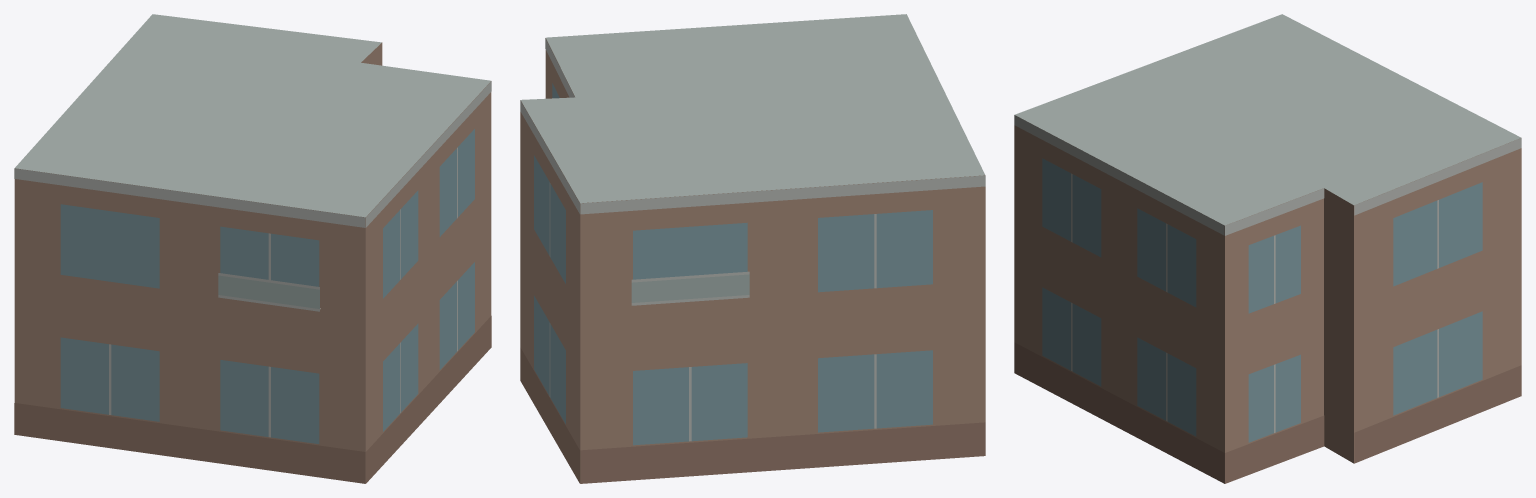
File: survey-upis-32891126.glb
The picture shows the model from 3 angles, left to right: view 1: azimuth 30°, elevation 25°; view 2: azimuth 150°, elevation 25°; view 3: azimuth 270°, elevation 25°; orthographic projection. The views are drawn at different scales.
Visible parts, largest first — view 1: survey-upis-32891126.tmp; view 2: survey-upis-32891126.tmp; view 3: survey-upis-32891126.tmp.
Part boxes in pixels (bbox=[...]): survey-upis-32891126.tmp: bbox=[14, 14, 491, 483]; survey-upis-32891126.tmp: bbox=[520, 14, 985, 483]; survey-upis-32891126.tmp: bbox=[1014, 14, 1521, 483].
Bounding box in the file's own units: 10.73 × 6.1 × 10.86.
